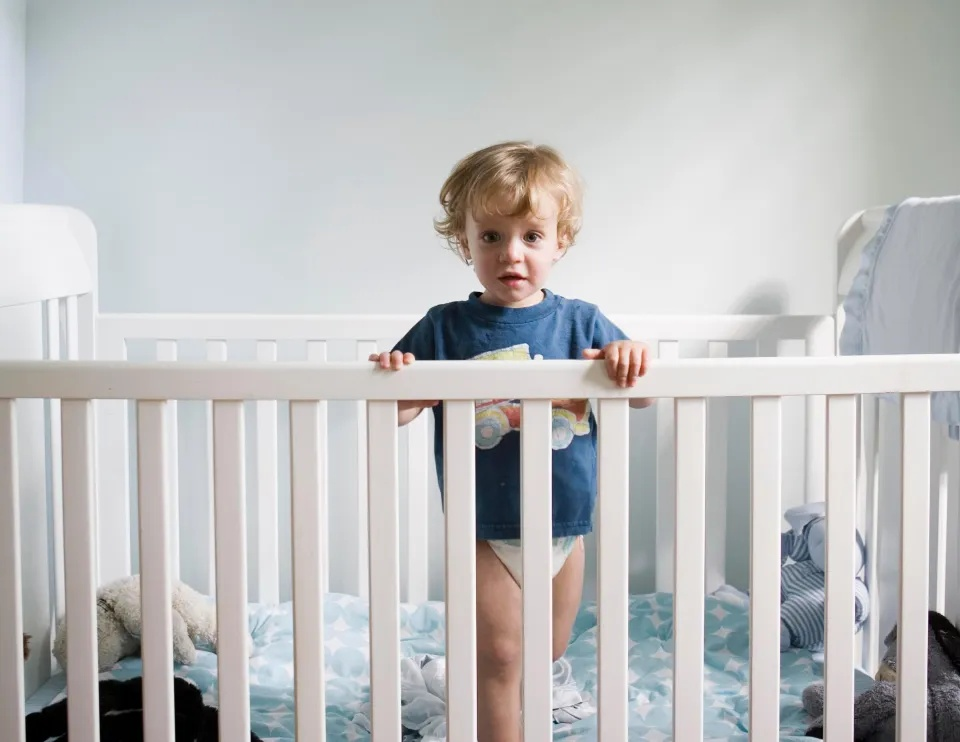baby: (370, 142, 647, 386)
crib: (0, 206, 959, 741)
